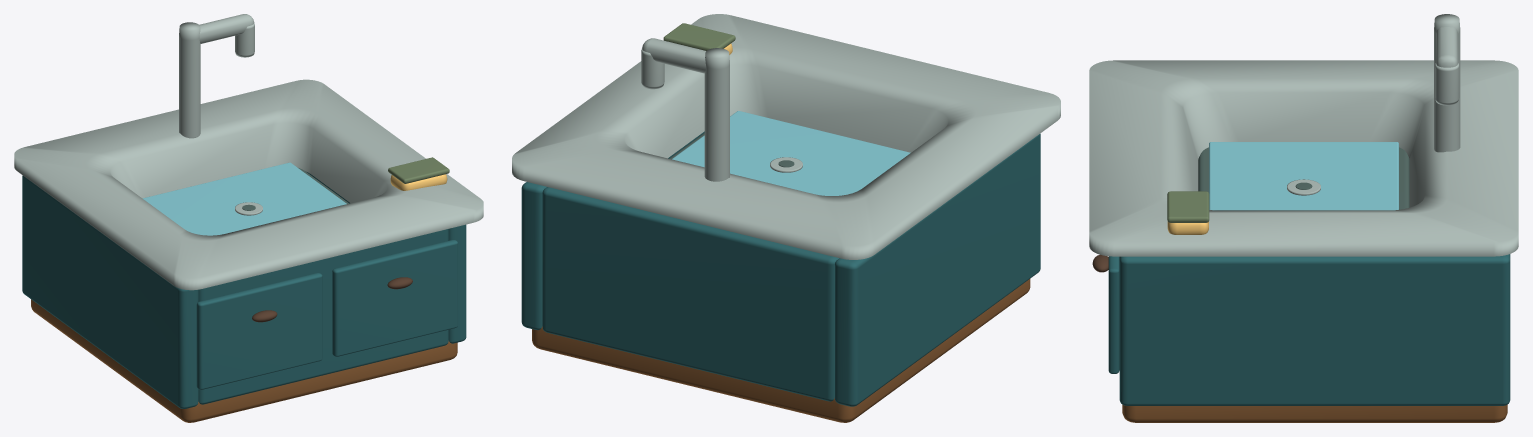
The model's file is station-sink.obj.
3 views of the same model, side by side, from view 1: azimuth 30°, elevation 25°; view 2: azimuth 150°, elevation 25°; view 3: azimuth 270°, elevation 25° (orthographic). The views are drawn at different scales.
Parts seen in each view (by area): view 1: station-sink_metal, station-sink_teal, station-sink_water, station-sink_oakDark, station-sink_sageDark, station-sink_seed, station-sink_cocoa; view 2: station-sink_teal, station-sink_metal, station-sink_water, station-sink_oakDark, station-sink_sageDark; view 3: station-sink_metal, station-sink_teal, station-sink_water, station-sink_oakDark, station-sink_sageDark, station-sink_darkMetal, station-sink_seed.
Boxes of the visible parts, x1,y1,x2,y2 form: station-sink_metal: (14, 14, 483, 290); station-sink_teal: (22, 172, 466, 408); station-sink_water: (142, 162, 346, 235); station-sink_oakDark: (31, 299, 457, 422); station-sink_sageDark: (388, 157, 449, 183); station-sink_seed: (390, 174, 447, 190); station-sink_cocoa: (252, 277, 412, 322); station-sink_teal: (521, 131, 1040, 406); station-sink_metal: (512, 14, 1060, 259); station-sink_water: (672, 111, 910, 195); station-sink_oakDark: (532, 279, 1030, 422); station-sink_sageDark: (663, 23, 735, 50); station-sink_metal: (1089, 14, 1518, 256); station-sink_teal: (1108, 254, 1510, 405); station-sink_water: (1209, 142, 1398, 210); station-sink_oakDark: (1122, 404, 1507, 422); station-sink_sageDark: (1167, 191, 1209, 222); station-sink_darkMetal: (1198, 147, 1409, 209); station-sink_seed: (1167, 221, 1208, 234).
Bounding box in the file's own units: 0.78 × 0.6541 × 0.78.
